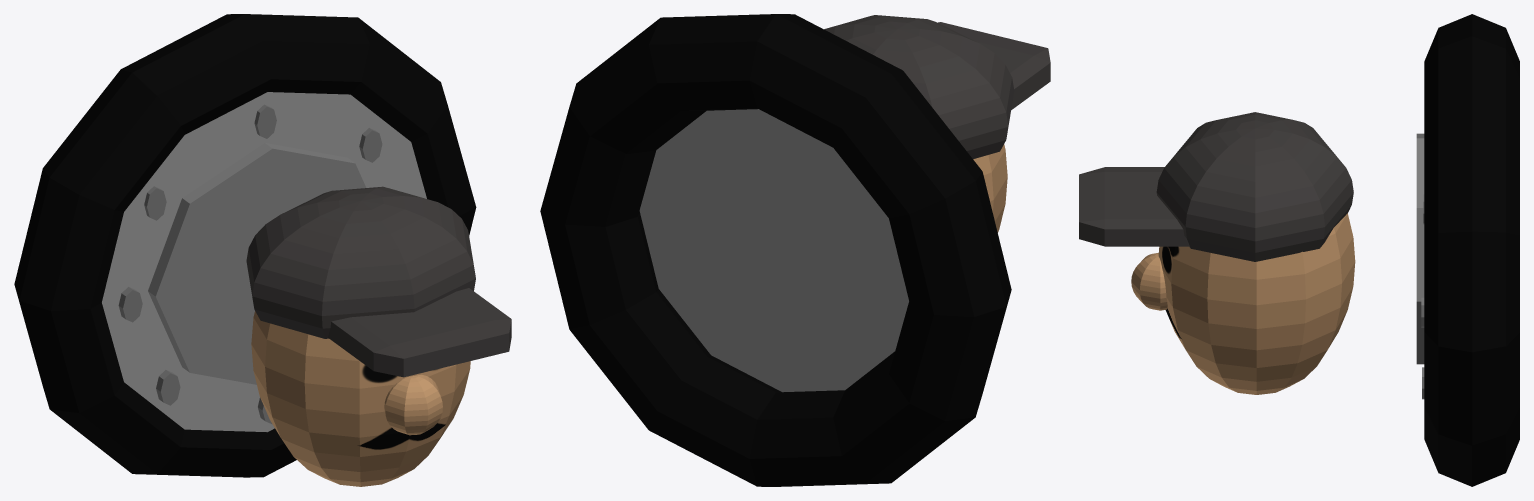
File: talachas.glb
The picture shows the model from 3 angles, left to right: view 1: azimuth 30°, elevation 25°; view 2: azimuth 150°, elevation 25°; view 3: azimuth 270°, elevation 25°; orthographic projection. The views are drawn at different scales.
Visible parts, largest first — view 1: Torus.002, Cylinder, Sphere.002, Cylinder.001, Sphere, Cube, Cylinder.003, Sphere.001; view 2: Torus.002, Cylinder, Sphere.002, Cube, Sphere; view 3: Torus.002, Sphere, Sphere.002, Cube, Cylinder.001, Sphere.001.
Boxes of the visible parts, left/top/right/bottom form: Torus.002: left=14, top=14, right=476, bottom=477; Cylinder: left=102, top=92, right=426, bottom=432; Sphere.002: left=246, top=186, right=475, bottom=338; Cylinder.001: left=148, top=143, right=366, bottom=384; Sphere: left=251, top=311, right=470, bottom=486; Cube: left=328, top=288, right=511, bottom=377; Cylinder.003: left=118, top=104, right=382, bottom=424; Sphere.001: left=384, top=374, right=442, bottom=435; Torus.002: left=540, top=14, right=1011, bottom=486; Cylinder: left=639, top=109, right=908, bottom=392; Sphere.002: left=824, top=15, right=1014, bottom=158; Cube: left=938, top=22, right=1050, bottom=109; Sphere: left=973, top=144, right=1007, bottom=232; Torus.002: left=1424, top=14, right=1519, bottom=486; Sphere: left=1158, top=213, right=1355, bottom=394; Sphere.002: left=1156, top=112, right=1353, bottom=261; Cube: left=1079, top=167, right=1189, bottom=246; Cylinder.001: left=1416, top=133, right=1424, bottom=364; Sphere.001: left=1131, top=253, right=1167, bottom=310.
Size of the model in its own units: 2.8 by 2.74 by 2.56.
Materials: 8 (1 with a texture image).
